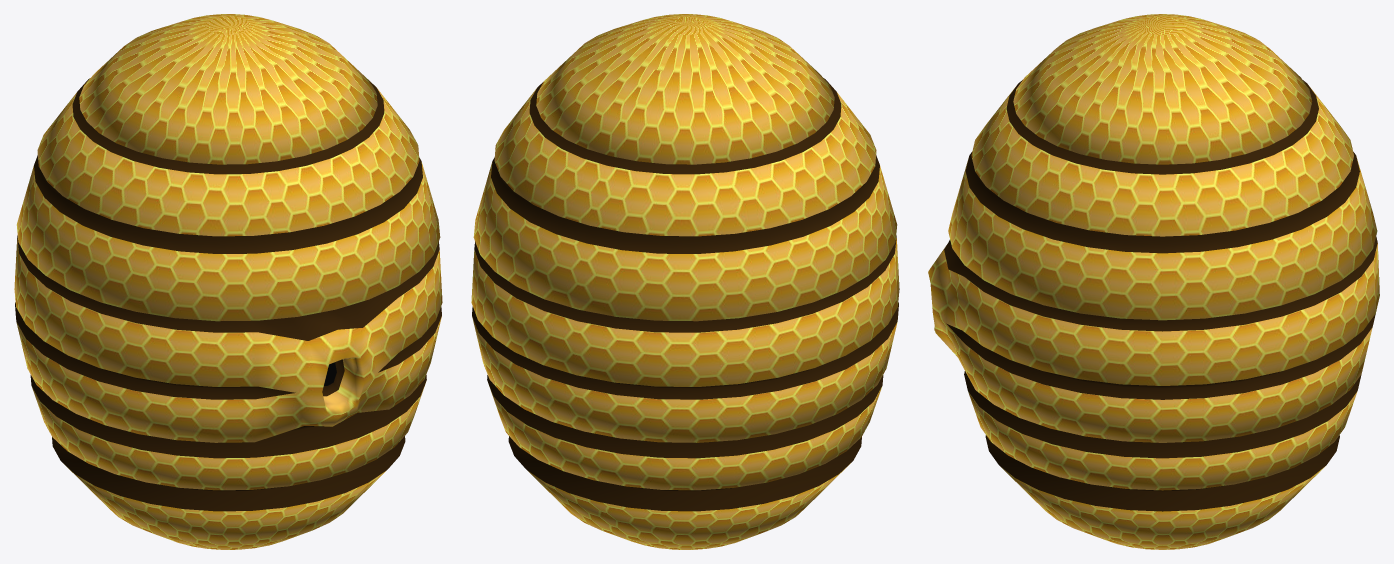
Rendered from NewHive.fbx.
3 renders of one model, left to right at view 1: azimuth 30°, elevation 25°; view 2: azimuth 150°, elevation 25°; view 3: azimuth 270°, elevation 25°, orthographic.
Visible parts, largest first — view 1: Sphere; view 2: Sphere; view 3: Sphere.
Boxes of the visible parts, bbox=[...] form: Sphere: bbox=[14, 14, 442, 549]; Sphere: bbox=[471, 14, 899, 549]; Sphere: bbox=[928, 14, 1379, 549].
Size of the model in its own units: 426 by 557 by 450.
